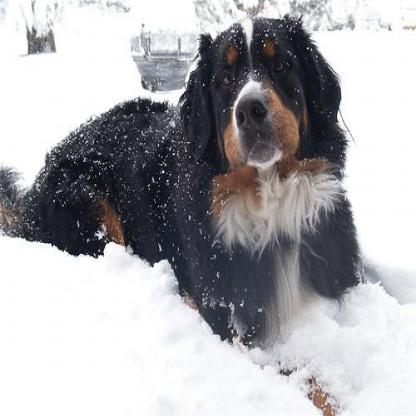Bernese_mountain_dog: (0, 14, 368, 412)
